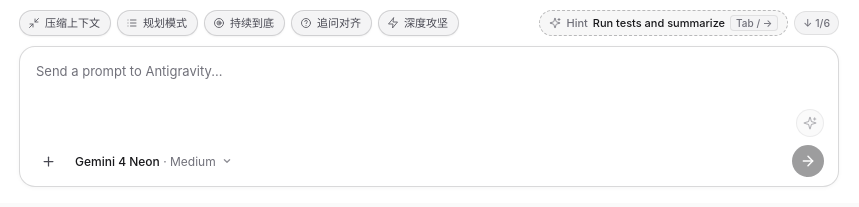
Composer › supports circular icon-only prompt optimizer, keyboard shortcut, and undo restore without hint/export clutter
Expected: the button with test id "composer-plus-btn" is shown, [34,147,62,175]
Expected: the button with test id "composer-optimize-btn" is empty, [796,109,824,137]
Type "fix bug" into the text box with test id "composer-textarea" at x=429, y=82, box [34,59,824,105]
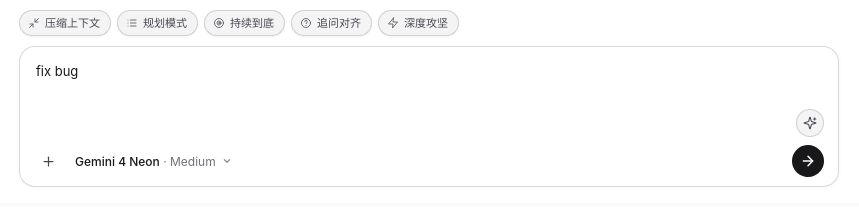
Press O in the text box with test id "composer-textarea", box [34,59,824,105]
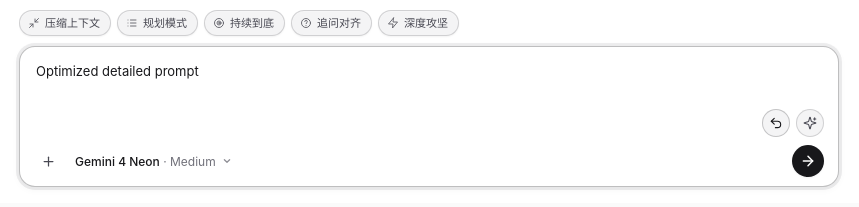
Now the text box with test id "composer-textarea" holds "Optimized detailed prompt", box [34,59,824,105]
Now the button with test id "composer-undo-optimize-btn" is shown
Click the button with test id "composer-undo-optimize-btn" at x=776, y=123, box [762,109,790,137]
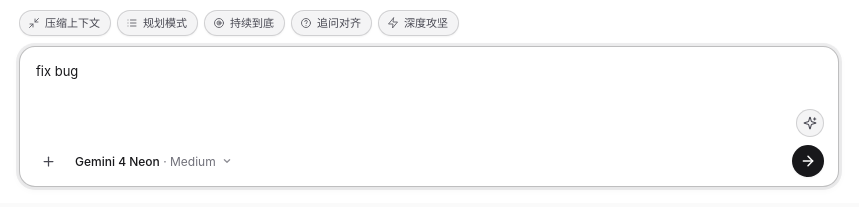
Now the button with test id "composer-undo-optimize-btn" is gone
